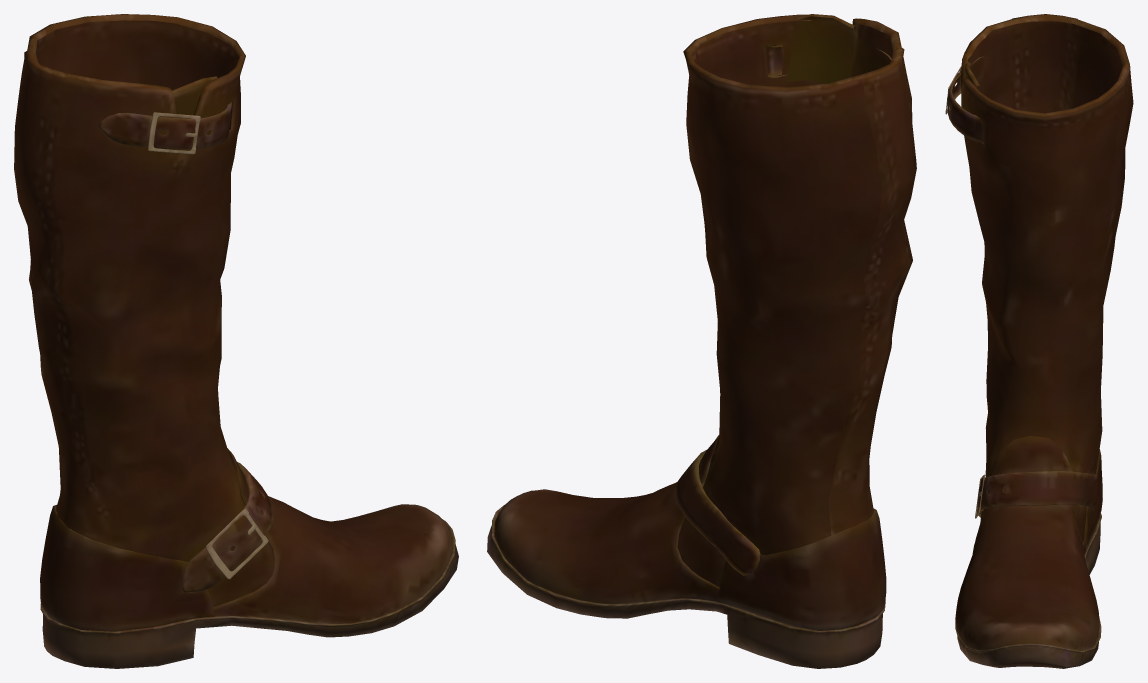
File: ropa_boots.glb
The picture shows the model from 3 angles, left to right: view 1: azimuth 30°, elevation 25°; view 2: azimuth 150°, elevation 25°; view 3: azimuth 270°, elevation 25°; orthographic projection. The views are drawn at different scales.
Visible parts, largest first — view 1: defaultMaterial; view 2: defaultMaterial; view 3: defaultMaterial.
Boxes of the visible parts, <box> form: defaultMaterial: <box>14,14,458,668</box>; defaultMaterial: <box>487,14,916,668</box>; defaultMaterial: <box>945,14,1133,668</box>.
Size of the model in its own units: 0.3073 by 0.42 by 0.1403.
Materials: 1 (1 with a texture image).
